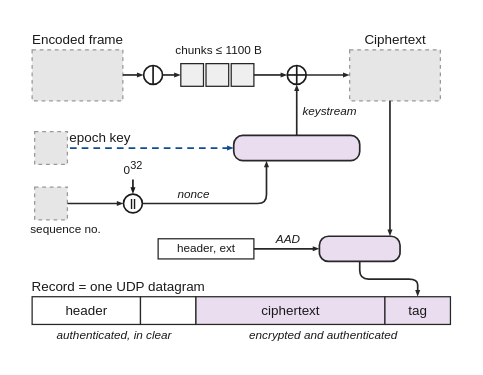
Some shapes in this 483 by 375 pixel diagram are drawn without their labels. Grey dashed boxes stand in for pictures. The centre of each missing label's shape, as x and y in pixels:
AES-256 (CTR): the point at 296,147
ext: the point at 167,309
GHASH: the point at 359,248
